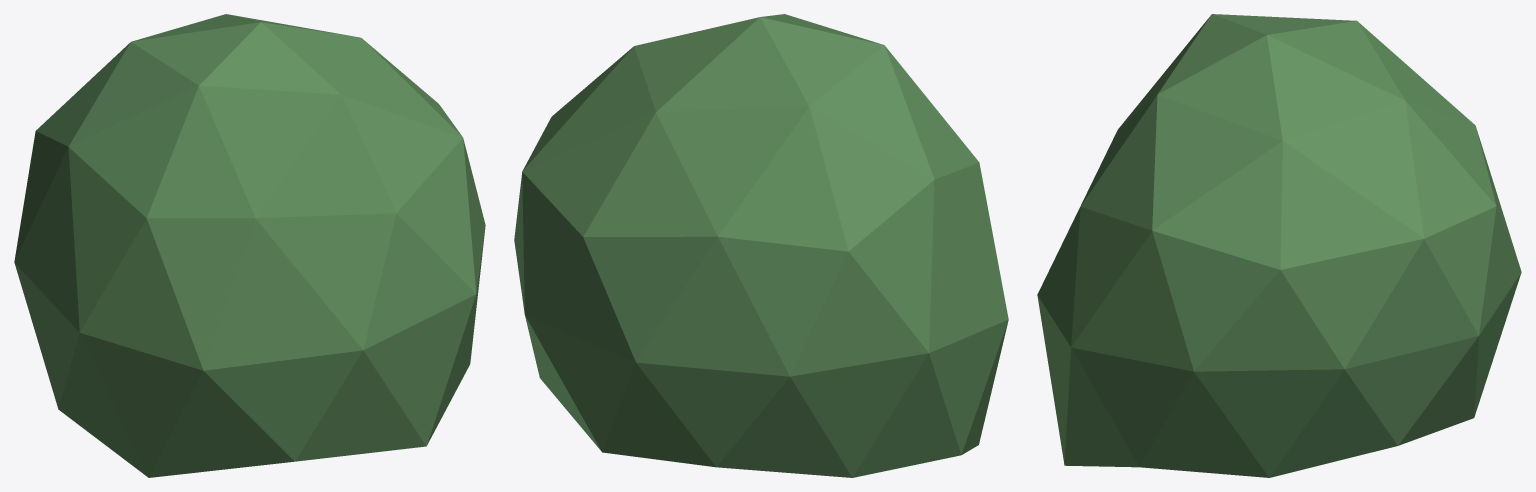
File: Leaves1.fbx
3 renders of one model, left to right at view 1: azimuth 30°, elevation 25°; view 2: azimuth 150°, elevation 25°; view 3: azimuth 270°, elevation 25°, orthographic. The views are drawn at different scales.
Visible parts, largest first — view 1: Leaves1; view 2: Leaves1; view 3: Leaves1.
Boxes of the visible parts, <box> form: Leaves1: <box>14,14,485,477</box>; Leaves1: <box>514,14,1008,477</box>; Leaves1: <box>1037,14,1521,477</box>.
Bounding box in the file's own units: 300 × 280 × 300.
